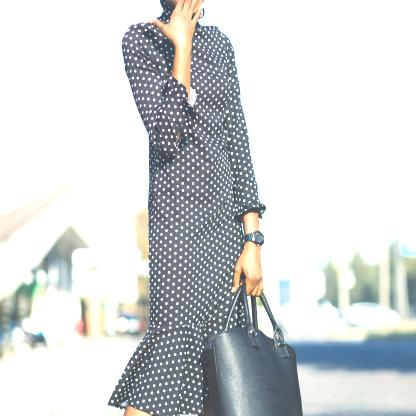dress: (101, 0, 263, 416)
